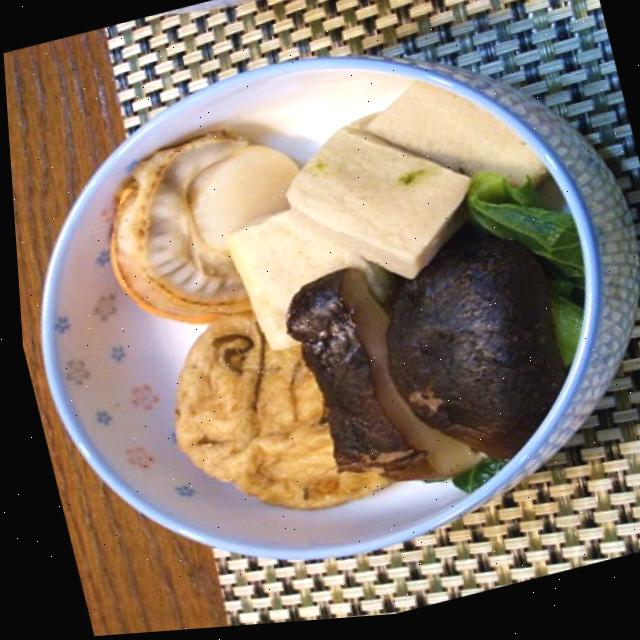熟制海鲜: (53, 57, 573, 573)
